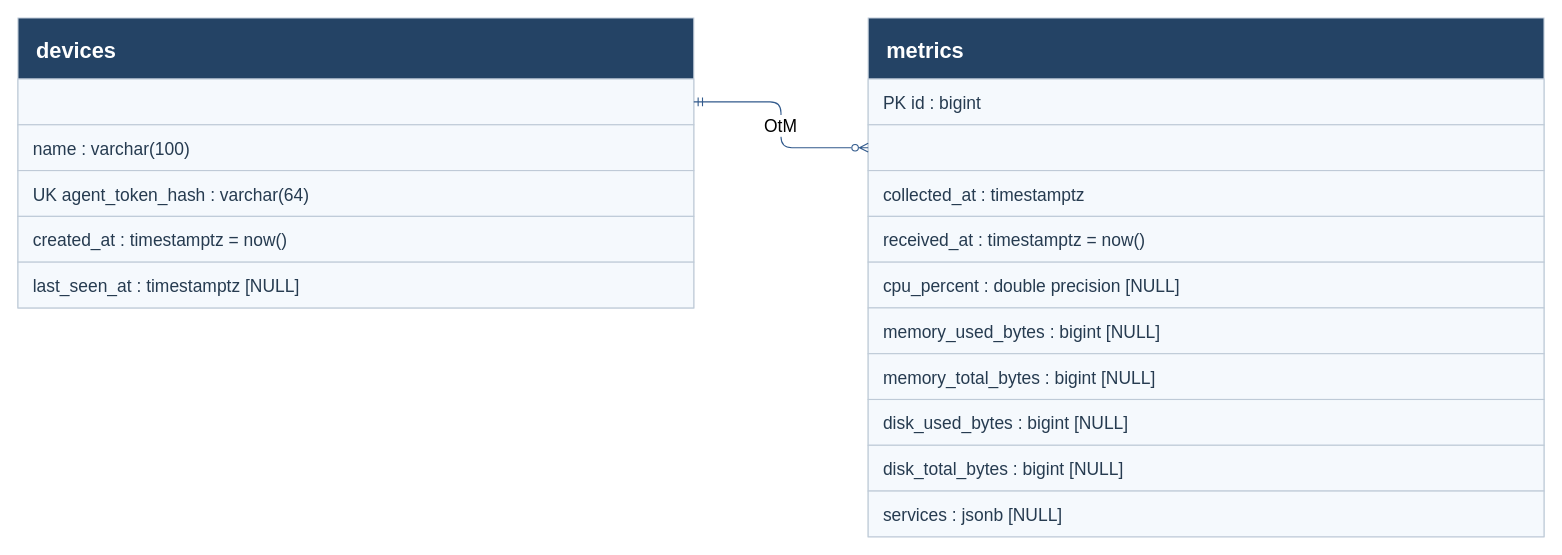
Image size: 1562x555. Some labels were removed from this diagram. Each missing label, with the centre of its shape:
FK device_id : integer: point (1205, 147)
PK id : integer: point (355, 101)
